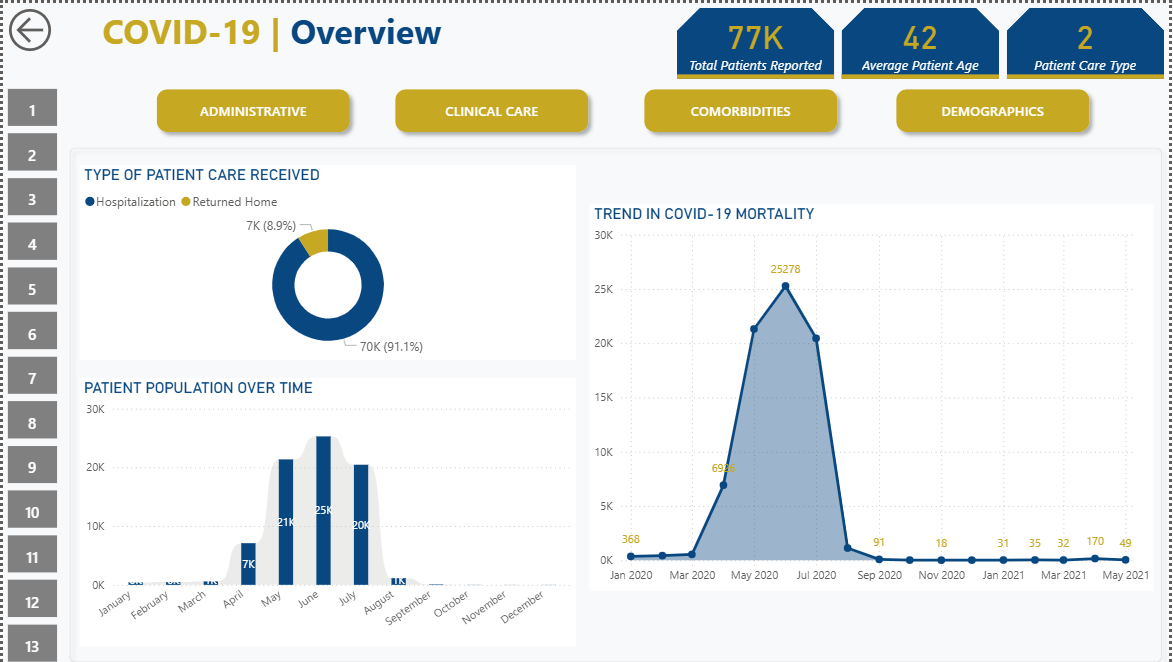

This screenshot's page, from the dashboard's own definition file:
{"tool":"powerbi","page":{"name":"Overview","canvas":[1280,732],"ordinal":0},"visuals":[{"type":"shape","box":[64.2,149.8,1216.6,582.8],"z":0},{"type":"shape","box":[159.7,85.6,230,65],"z":1000},{"type":"shape","box":[694.7,85.6,230,65],"z":2000},{"type":"shape","box":[421.4,85.6,230,65],"z":3000},{"type":"shape","box":[971.3,85.6,230,65],"z":4000},{"type":"donutChart","title":"TYPE OF PATIENT CARE RECEIVED ","fields":{"Category":["Covid Data.PATIENT_TYPE"],"Y":["Covid Data.NO. OF PATIENTS"]},"box":[84,177.8,544.9,214],"z":5000},{"type":"textbox","box":[64.2,0,670,85.6],"z":6000},{"type":"advancedSlicerVisual","fields":{"Values":["Covid Data.MEDICAL_UNIT"]},"box":[0,88.9,64,643.7],"z":7000},{"type":"areaChart","title":"TREND IN COVID-19 MORTALITY","fields":{"Category":["Covid Data.DATE_DIED.Variation.Date Hierarchy.Year","Covid Data.DATE_DIED.Variation.Date Hierarchy.Month"],"Y":["Covid Data.NO. OF PATIENTS"]},"box":[643.7,220.6,619,424.7],"z":8000},{"type":"ribbonChart","title":"PATIENT POPULATION OVER TIME","fields":{"Y":["Covid Data.NO. OF PATIENTS"],"Category":["Covid Data.DATE_DIED.Variation.Date Hierarchy.Year","Covid Data.DATE_DIED.Variation.Date Hierarchy.Month","Covid Data.DATE_DIED.Variation.Date Hierarchy.Day"]},"box":[84,411.6,544.9,294.7],"z":9000},{"type":"actionButton","box":[0,0,72.4,59.3],"z":10000},{"type":"cardVisual","fields":{"Data":["Covid Data.NO. OF PATIENTS","Avg(Covid Data.AGE)","Count(Covid Data.PATIENT_TYPE)"]},"box":[733.5,0,546.5,88.9],"z":11000}]}

Visuals, with their boxes on the page's 1280x732 design canvas (x1, y1, x2, y2). These are canvas units, not pixel positions in the 1173x662 screenshot, which may show the page scaled, cropped or inside an application window:
shape: bbox(64, 150, 1281, 733)
shape: bbox(160, 86, 390, 151)
shape: bbox(695, 86, 925, 151)
shape: bbox(421, 86, 651, 151)
shape: bbox(971, 86, 1201, 151)
"TYPE OF PATIENT CARE RECEIVED " donutChart: bbox(84, 178, 629, 392)
textbox: bbox(64, 0, 734, 86)
advancedSlicerVisual - Covid Data.MEDICAL_UNIT: bbox(0, 89, 64, 733)
"TREND IN COVID-19 MORTALITY" areaChart: bbox(644, 221, 1263, 645)
"PATIENT POPULATION OVER TIME" ribbonChart: bbox(84, 412, 629, 706)
actionButton: bbox(0, 0, 72, 59)
cardVisual - Covid Data.NO. OF PATIENTS x Avg(Covid Data.AGE): bbox(734, 0, 1280, 89)
